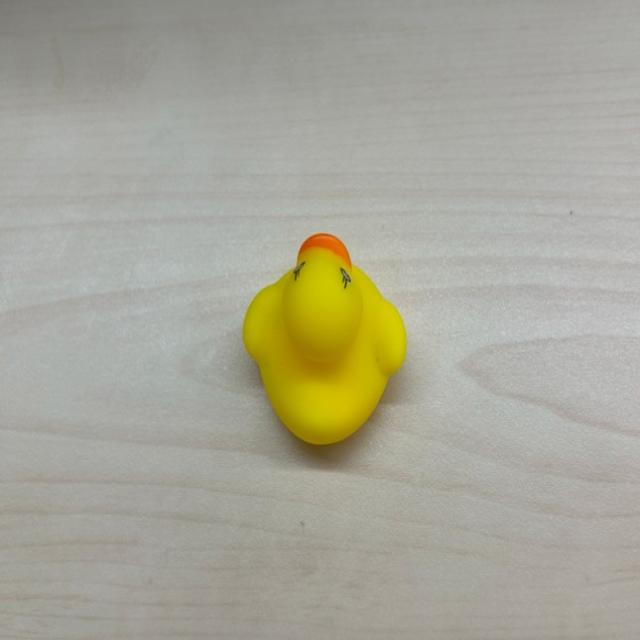duck_regular: (223, 217, 427, 472)
